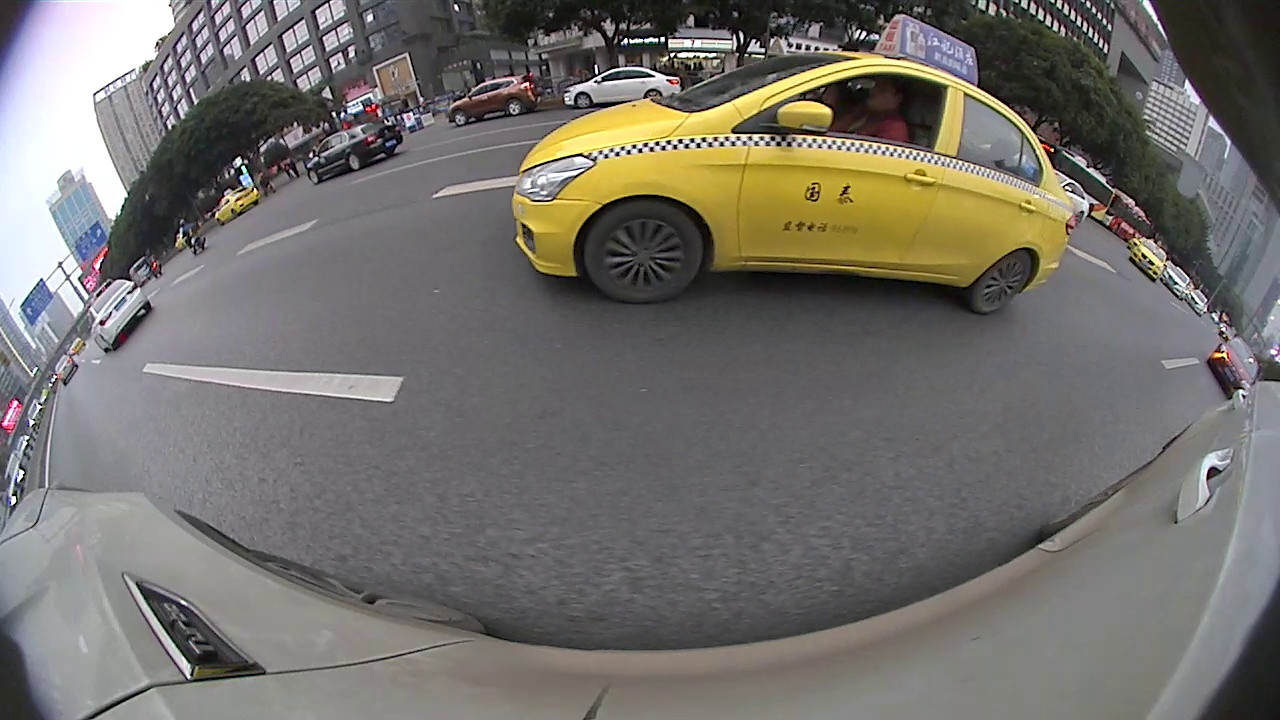bus: (1039, 146, 1116, 225)
car: (513, 10, 1076, 315), (305, 123, 403, 187), (562, 66, 682, 108), (88, 277, 152, 354), (447, 75, 540, 127), (1207, 336, 1260, 399), (213, 184, 261, 229), (1127, 241, 1167, 283)
front: (583, 200, 704, 302), (575, 91, 592, 109), (454, 111, 466, 125), (308, 171, 320, 182)
rear: (972, 248, 1032, 312), (507, 99, 522, 114), (348, 153, 361, 170)
rider: (177, 218, 208, 255)
